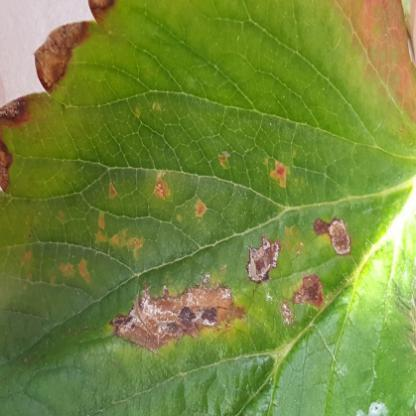Strawberry_Angular_LeafSpot: (13, 89, 368, 355)
